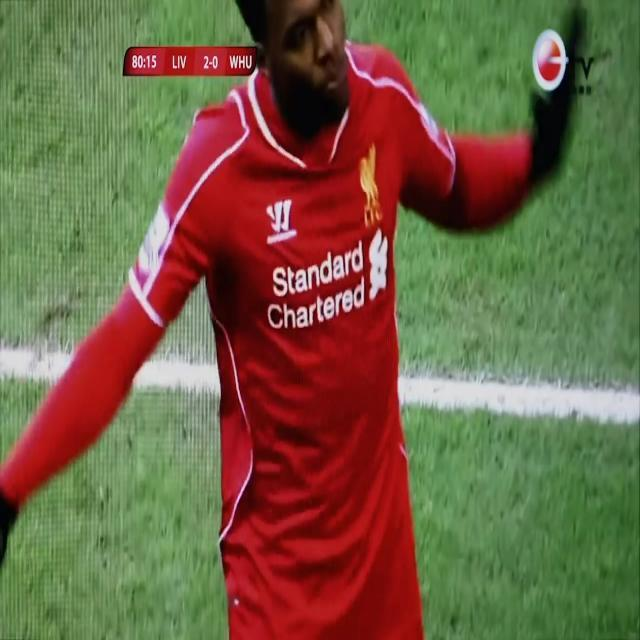Standard Chartered: (267, 231, 388, 326)
